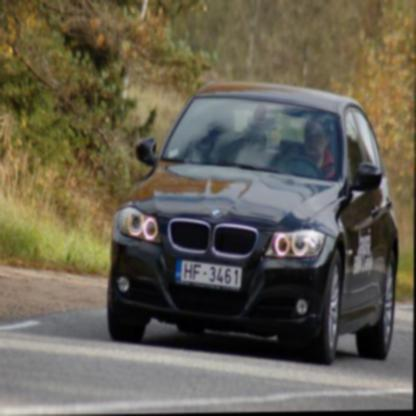License_Plate: (175, 257, 244, 292)
